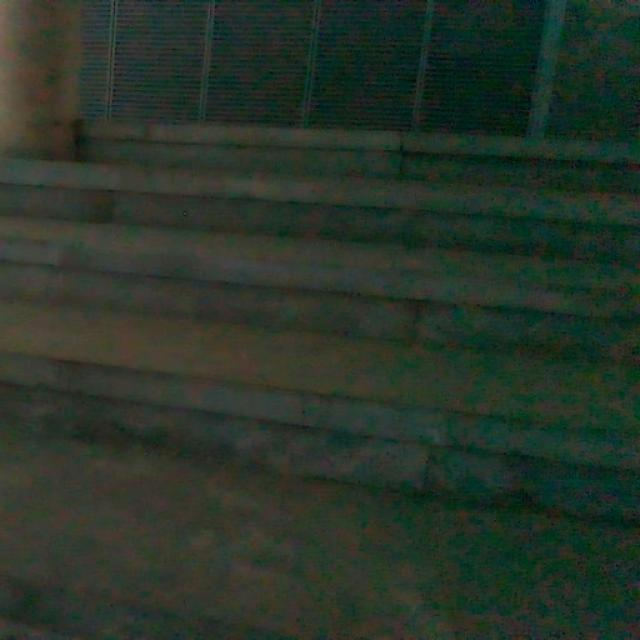stair: (9, 148, 640, 480)
